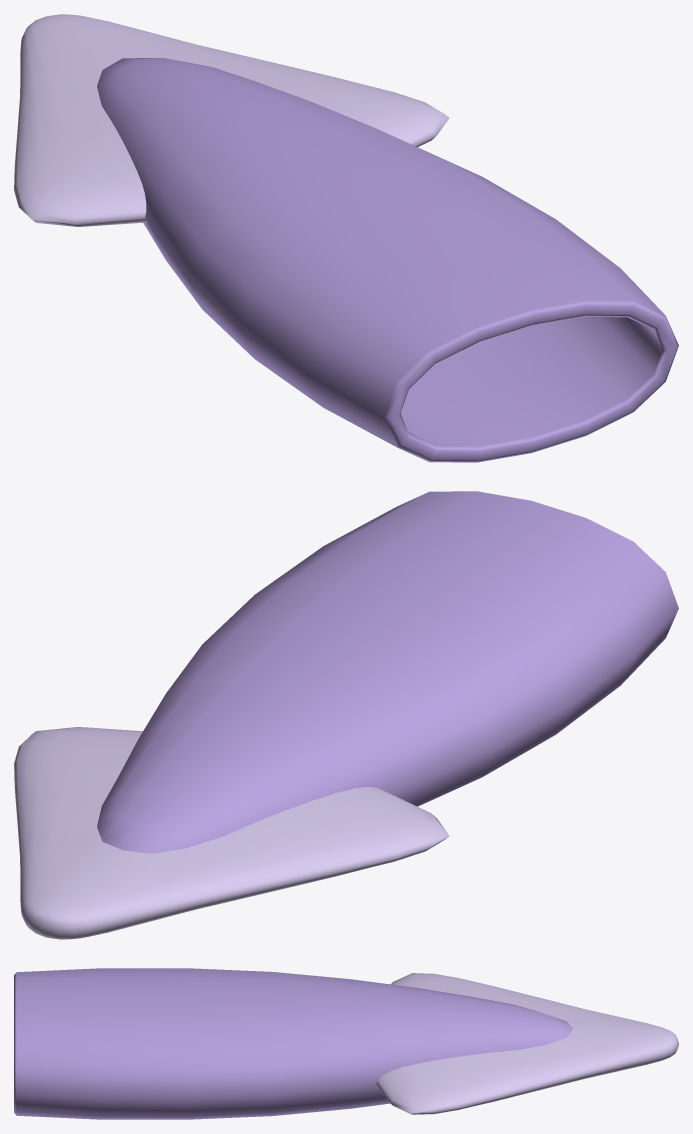
The model's file is Squid_3_Fillet_1.fbx.
3 renders of one model, top to bottom at view 1: azimuth 30°, elevation 25°; view 2: azimuth 150°, elevation 25°; view 3: azimuth 270°, elevation 25°, orthographic. The views are drawn at different scales.
Visible parts, largest first — view 1: Squid_3_Fillet_1; view 2: Squid_3_Fillet_1; view 3: Squid_3_Fillet_1.
Part boxes in pixels (x1,y1,x2,y2): Squid_3_Fillet_1: [14, 14, 678, 462]; Squid_3_Fillet_1: [14, 491, 678, 939]; Squid_3_Fillet_1: [14, 968, 678, 1119].
Bounding box in the file's own units: 16.29 × 5.35 × 33.06.
